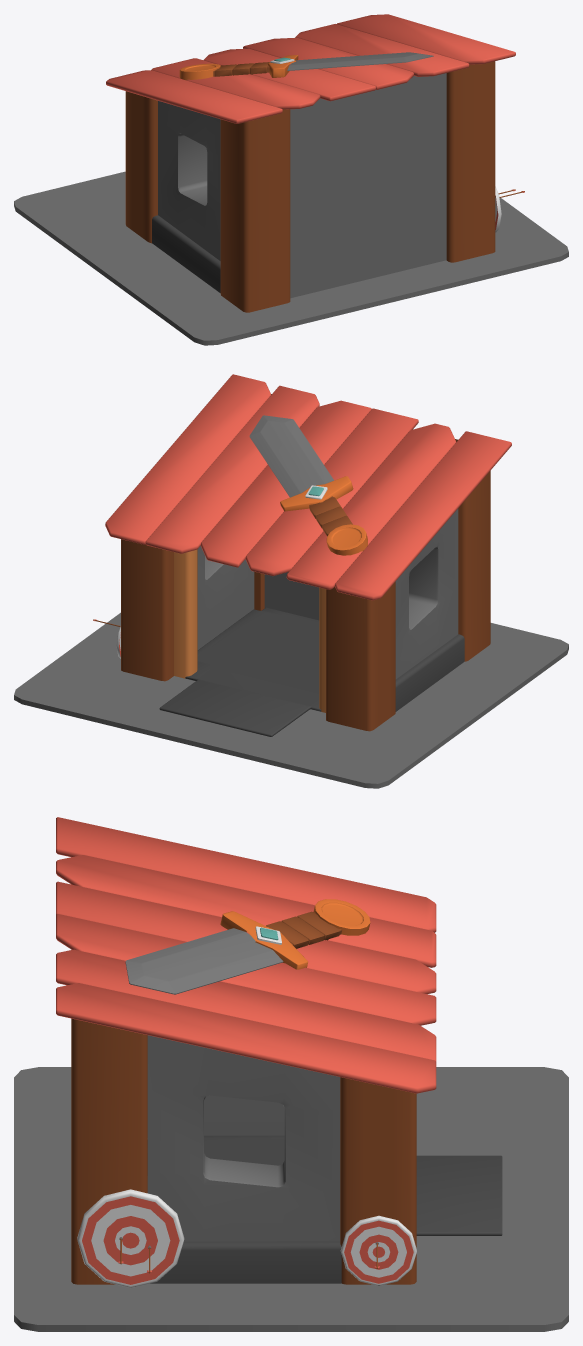
The model's file is Barrack Level1.fbx.
3 views of the same model, one above another, from view 1: azimuth 30°, elevation 25°; view 2: azimuth 150°, elevation 25°; view 3: azimuth 270°, elevation 25° (orthographic). The views are drawn at different scales.
Visible parts, largest first — view 1: Cube.171; view 2: Cube.171; view 3: Cube.171.
Boxes of the visible parts, bbox=[...] form: Cube.171: bbox=[14, 14, 568, 345]; Cube.171: bbox=[14, 374, 568, 788]; Cube.171: bbox=[14, 817, 568, 1331].
Size of the model in its own units: 277 by 146 by 252.
